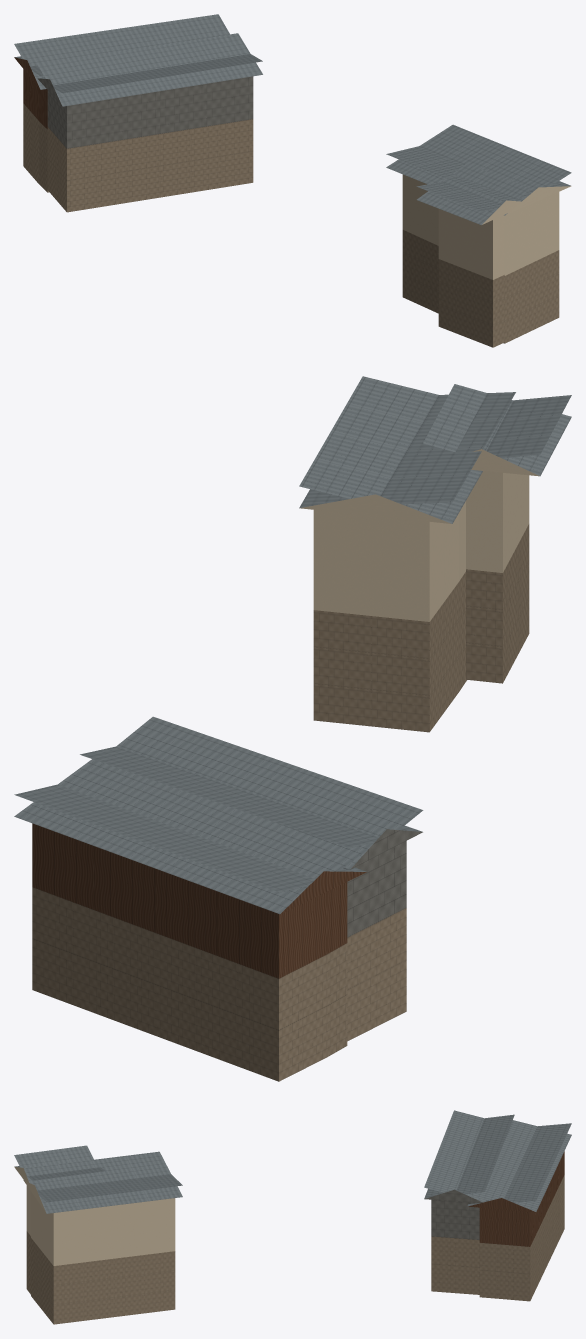
The model's file is bld_c0_10_490.gltf.
3 renders of one model, top to bottom at view 1: azimuth 30°, elevation 25°; view 2: azimuth 150°, elevation 25°; view 3: azimuth 270°, elevation 25°, orthographic. The views are drawn at different scales.
Parts seen in each view (by area): view 1: bld_c0_10_490; view 2: bld_c0_10_490; view 3: bld_c0_10_490.
Part boxes in pixels (bbox=[...]): bld_c0_10_490: bbox=[14, 14, 571, 347]; bld_c0_10_490: bbox=[14, 376, 571, 1081]; bld_c0_10_490: bbox=[14, 1110, 571, 1324].
Size of the model in its own units: 21.37 by 11.5 by 43.78.
Materials: 8 (8 with a texture image).
